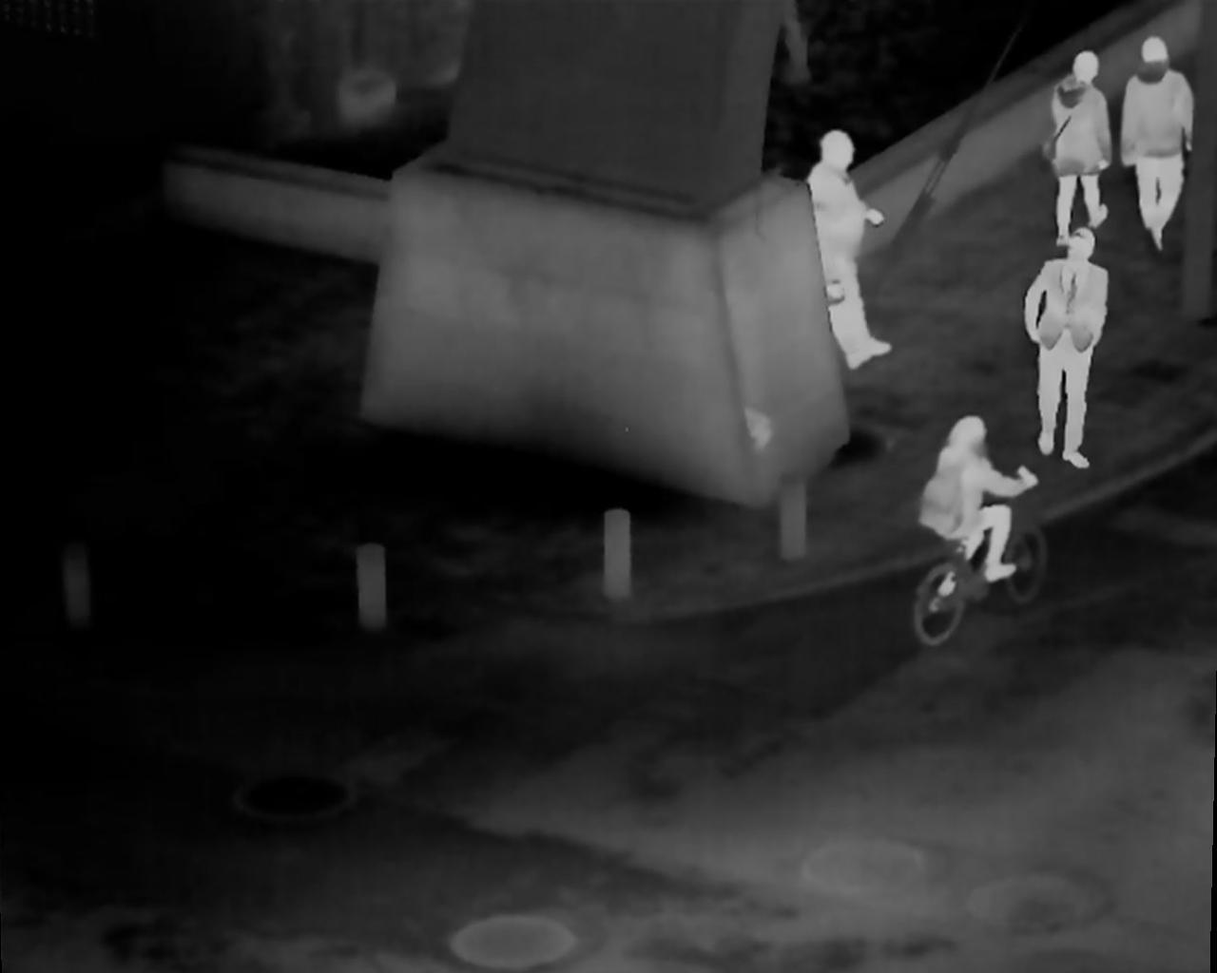person: (806, 126, 903, 374), (918, 421, 1039, 606), (1033, 220, 1101, 483), (1127, 37, 1202, 257), (1048, 52, 1123, 234)
